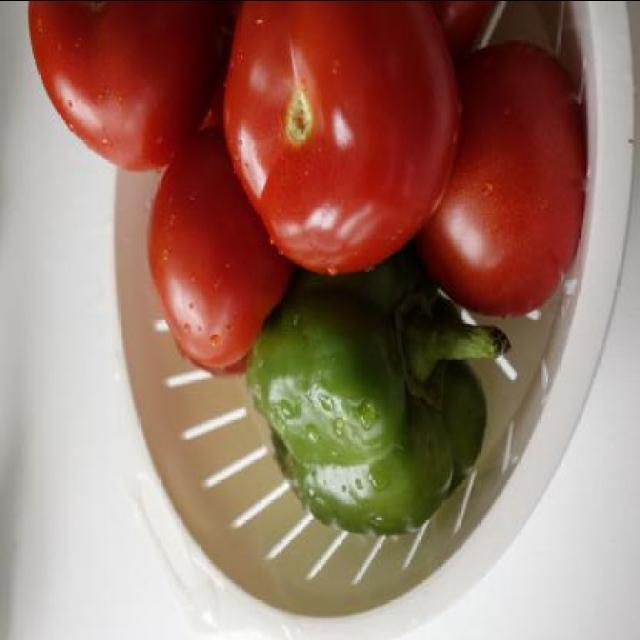Bell pepper: (245, 244, 513, 532)
